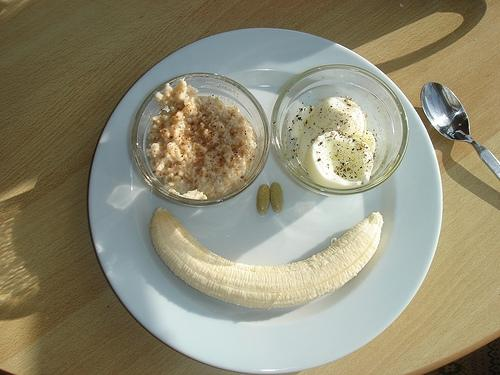banana: (148, 207, 384, 310)
